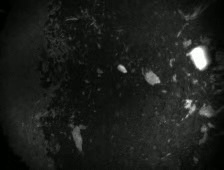corn: (189, 43, 210, 73), (115, 62, 129, 75)
